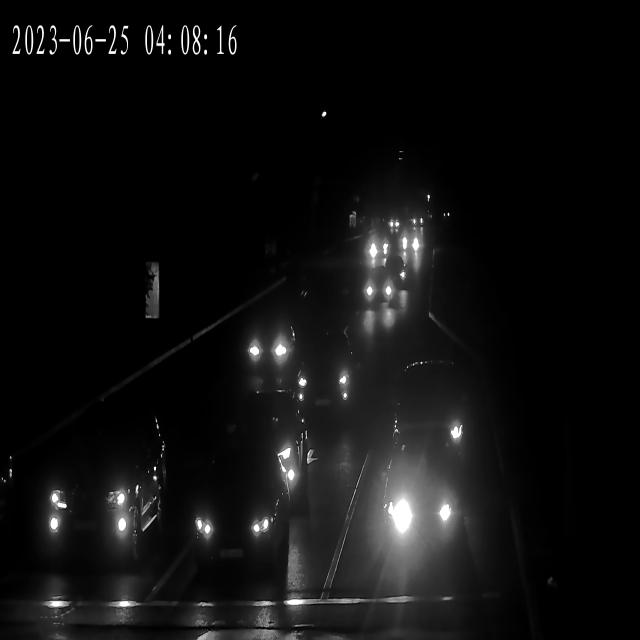Car: (26, 412, 161, 556), (172, 477, 284, 579), (380, 365, 476, 463), (238, 394, 306, 507), (376, 464, 458, 548), (290, 338, 362, 414), (234, 316, 294, 374), (358, 272, 396, 308), (363, 232, 391, 260), (398, 232, 420, 253), (400, 229, 422, 250), (385, 217, 402, 232), (408, 215, 426, 229)
